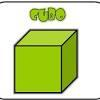cubos: (10, 27, 81, 95)
